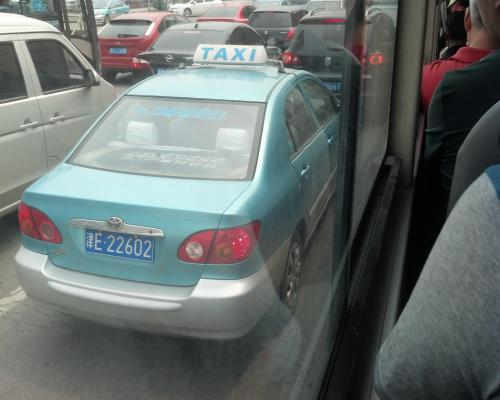Carplate: (77, 221, 157, 262)
